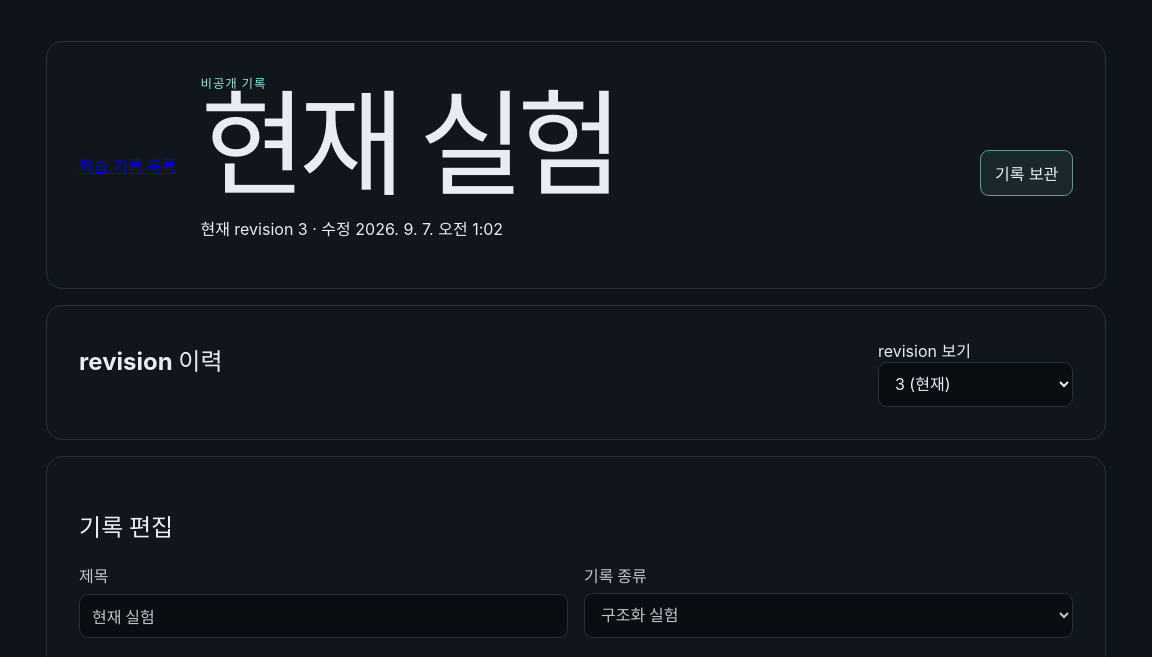
Test case: LearningRecordPage › remounts the complete readonly history snapshot when the selected revision changes
Select "1" in the dropdown labelled "revision 보기". click: coordinates (976, 384)
box: top-left (878, 362), bottom-right (1073, 407)
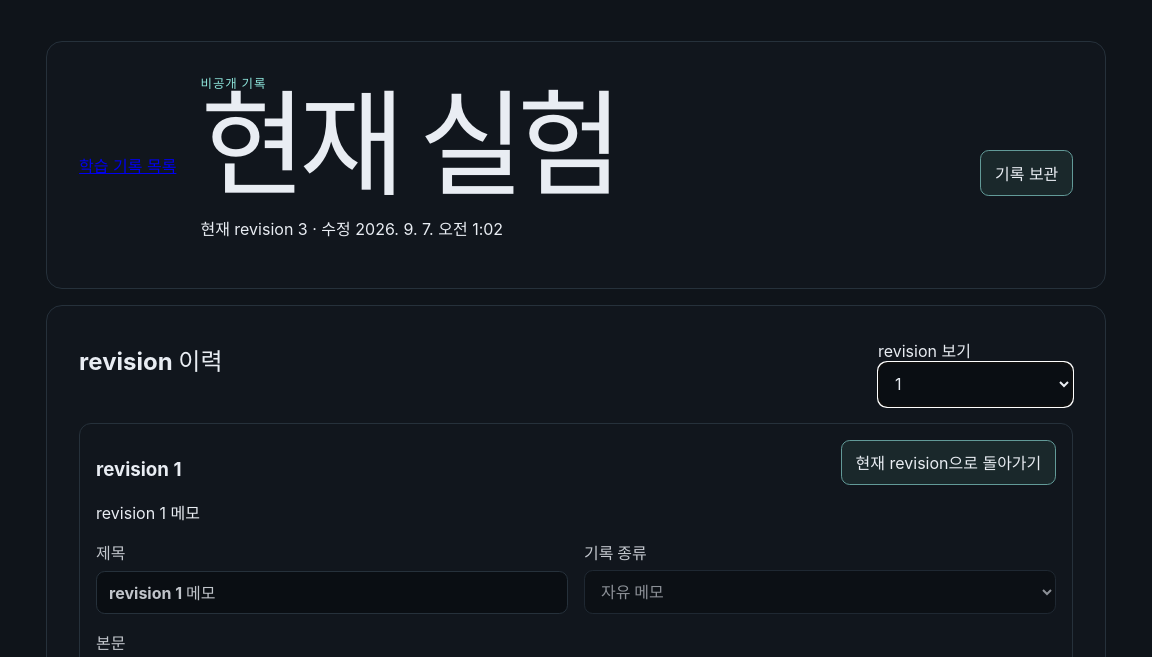
Check: the field labelled "제목" holds "revision 1 메모", box top-left (96, 571), bottom-right (568, 614)
Check: the dropdown labelled "기록 종류" shows "자유 메모", box top-left (584, 570), bottom-right (1056, 614)
Select "2" in the dropdown labelled "revision 보기". click: coordinates (976, 384)
box: top-left (878, 362), bottom-right (1073, 407)
(page scrolled)
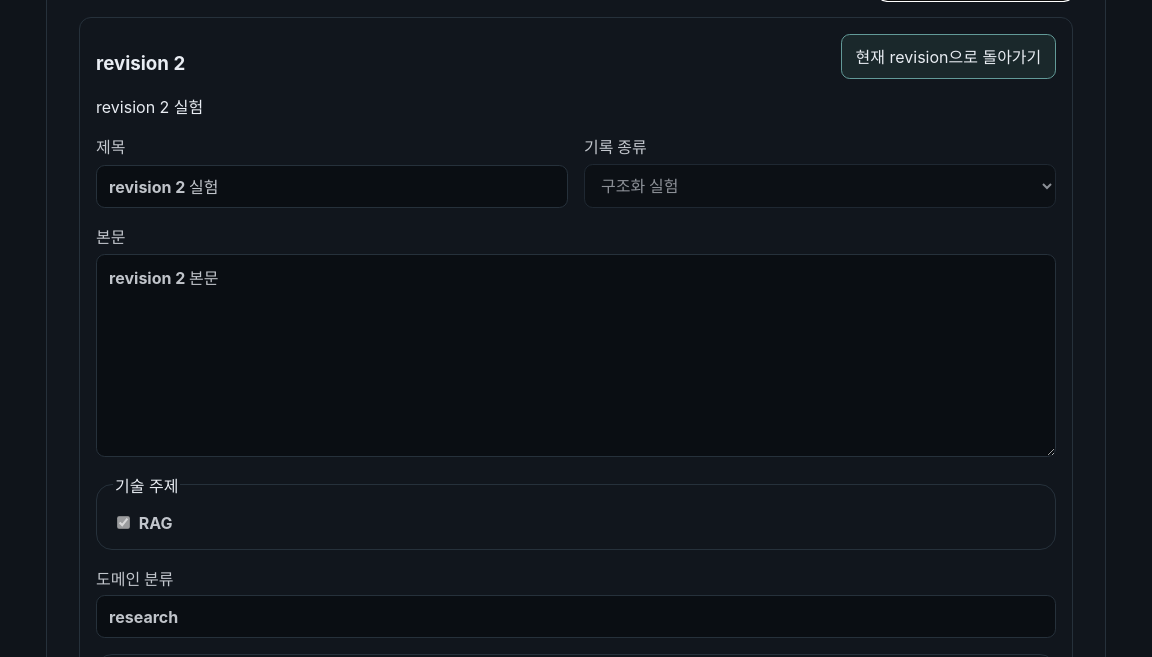
Check: the field labelled "제목" holds "revision 2 실험", box top-left (96, 165), bottom-right (568, 208)
Check: the dropdown labelled "기록 종류" shows "구조화 실험", box top-left (584, 164), bottom-right (1056, 208)
Check: the text box labelled "본문" holds "revision 2 본문", box top-left (96, 254), bottom-right (1056, 457)
